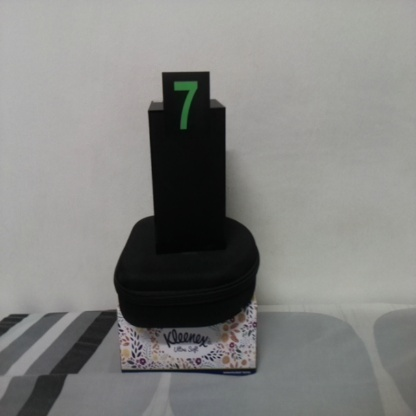id_7: (162, 72, 211, 151)
